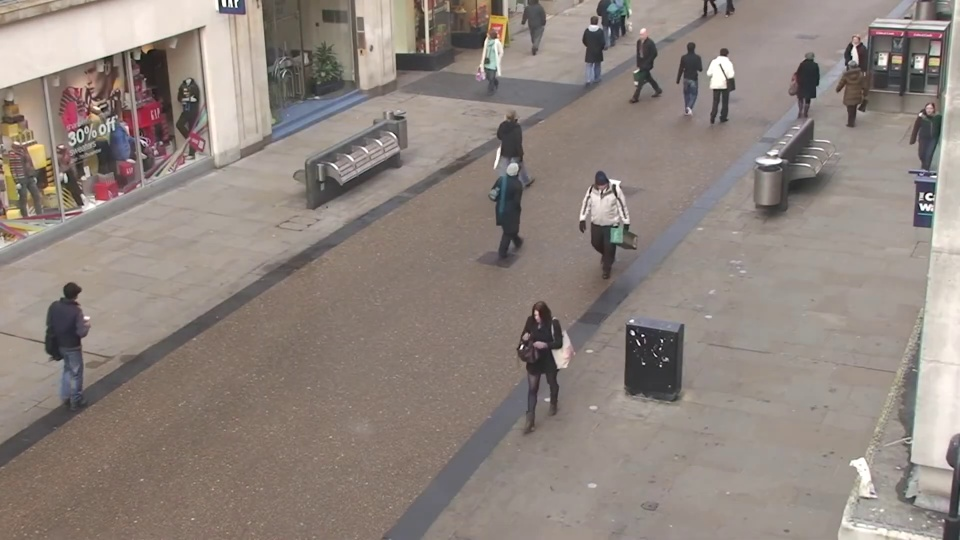pedestrian: (60, 271, 120, 405), (511, 300, 557, 445), (901, 98, 947, 194), (578, 172, 613, 284), (502, 155, 537, 262), (830, 56, 865, 139), (505, 101, 536, 194), (836, 33, 869, 110), (790, 46, 822, 125), (710, 41, 737, 117), (680, 36, 706, 111), (475, 27, 500, 98), (624, 26, 648, 97), (586, 10, 608, 77)
